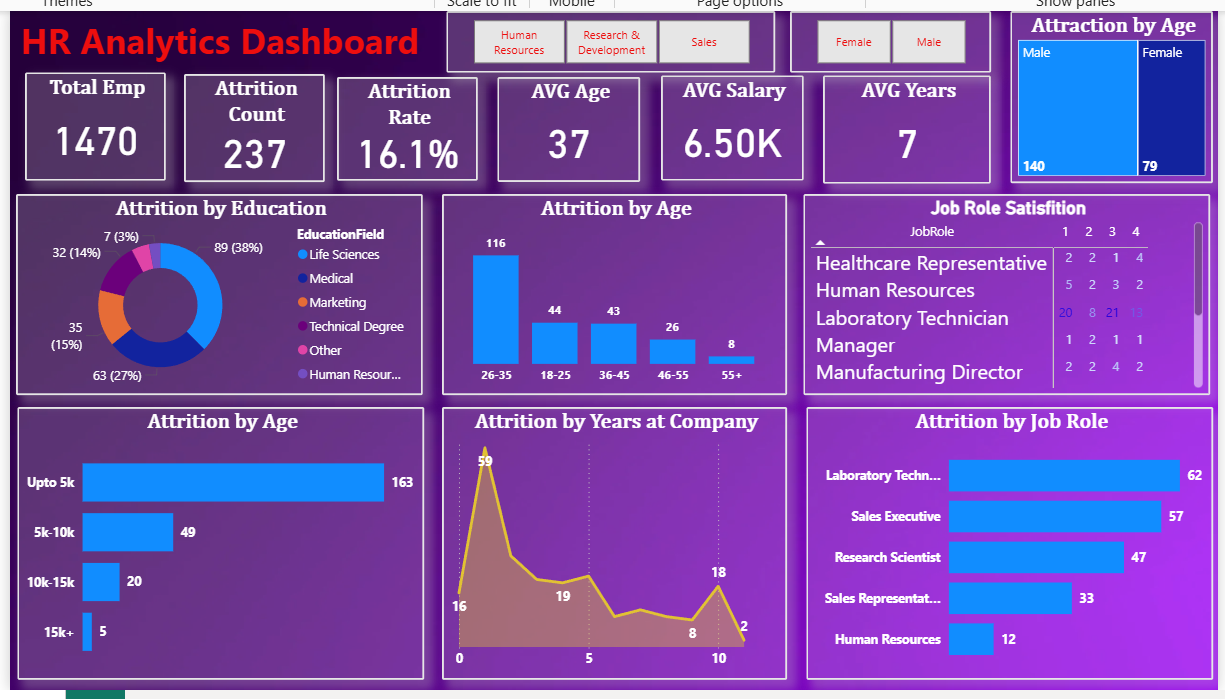

This screenshot's page, from the dashboard's own definition file:
{"tool":"powerbi","page":{"name":"Page 1","canvas":[1280,720],"ordinal":0},"visuals":[{"type":"card","title":"Total Emp","fields":{"Values":["CountNonNull(HR_Analytics.EmpID)"]},"box":[15.9,65.2,149.5,114.5],"z":0},{"type":"card","title":"AVG Age","fields":{"Values":["Avg(HR_Analytics.Age)"]},"box":[516.9,70,151.1,111.3],"z":1000},{"type":"card","title":"Attrition Rate","fields":{"Values":["HR_Analytics.AttrationRate"]},"box":[346.8,70,149.5,109.8],"z":2000},{"type":"card","title":"Attrition Count","fields":{"Values":["Sum(HR_Analytics.Attraction_Count)"]},"box":[184.5,66.8,149.5,114.5],"z":3000},{"type":"card","title":"AVG Salary","fields":{"Values":["Avg(HR_Analytics.MonthlyIncome)"]},"box":[690.3,68.4,151.1,111.3],"z":4000},{"type":"card","title":"AVG Years","fields":{"Values":["Avg(HR_Analytics.YearsAtCompany)"]},"box":[862.1,68.4,178.1,114.5],"z":5000},{"type":"donutChart","title":"Attrition by Education","fields":{"Category":["HR_Analytics.EducationField"],"Y":["Sum(HR_Analytics.Attraction_Count)"]},"box":[6.4,194.1,431.1,213.1],"z":6000},{"type":"columnChart","title":"Attrition by Age","fields":{"Category":["HR_Analytics.AgeGroup"],"Y":["Sum(HR_Analytics.Attraction_Count)"]},"box":[458.1,194.1,365.8,213.1],"z":7000},{"type":"pivotTable","title":"Job Role Satisfition","fields":{"Rows":["HR_Analytics.JobRole"],"Columns":["HR_Analytics.JobSatisfaction"],"Values":["Sum(HR_Analytics.Attraction_Count)"]},"box":[841.4,194.1,431.1,213.1],"z":8000},{"type":"barChart","title":"Attrition by Age","fields":{"Category":["HR_Analytics.SalarySlab"],"Y":["Sum(HR_Analytics.Attraction_Count)"]},"box":[8,419.9,431.1,289.5],"z":9000},{"type":"barChart","title":"Attrition by Job Role","fields":{"Y":["Sum(HR_Analytics.Attraction_Count)"],"Category":["HR_Analytics.JobRole"]},"box":[844.6,419.9,431.1,289.5],"z":10000},{"type":"areaChart","title":"Attrition by Years at Company","fields":{"Category":["HR_Analytics.YearsAtCompany"],"Y":["Sum(HR_Analytics.Attraction_Count)"]},"box":[458.1,419.9,365.8,289.5],"z":11000},{"type":"treemap","title":"Attraction by Age","fields":{"Group":["HR_Analytics.Gender"],"Values":["Sum(HR_Analytics.Attraction_Count)"]},"box":[1060.9,0,214.7,182.9],"z":12000},{"type":"slicer","fields":{"Values":["HR_Analytics.Department"]},"box":[462.9,0,348.3,65.2],"z":13000},{"type":"textbox","box":[6.4,0,478.8,65.2],"z":14000},{"type":"slicer","fields":{"Values":["HR_Analytics.Gender"]},"box":[827.1,0,213.1,65.2],"z":15000}]}

Visuals, with their boxes in screenshot pixels (x1, y1, x2, y2):
"Total Emp" card: Rect(18, 71, 159, 179)
"AVG Age" card: Rect(491, 76, 634, 181)
"Attrition Rate" card: Rect(330, 76, 472, 179)
"Attrition Count" card: Rect(177, 73, 318, 181)
"AVG Salary" card: Rect(655, 74, 797, 179)
"AVG Years" card: Rect(817, 74, 985, 182)
"Attrition by Education" donutChart: Rect(9, 193, 416, 394)
"Attrition by Age" columnChart: Rect(436, 193, 781, 394)
"Job Role Satisfition" pivotTable: Rect(797, 193, 1204, 394)
"Attrition by Age" barChart: Rect(11, 406, 418, 679)
"Attrition by Job Role" barChart: Rect(800, 406, 1207, 679)
"Attrition by Years at Company" areaChart: Rect(436, 406, 781, 679)
"Attraction by Age" treemap: Rect(1004, 10, 1207, 182)
slicer - HR_Analytics.Department: Rect(440, 10, 769, 71)
textbox: Rect(9, 10, 461, 71)
slicer - HR_Analytics.Gender: Rect(784, 10, 985, 71)
